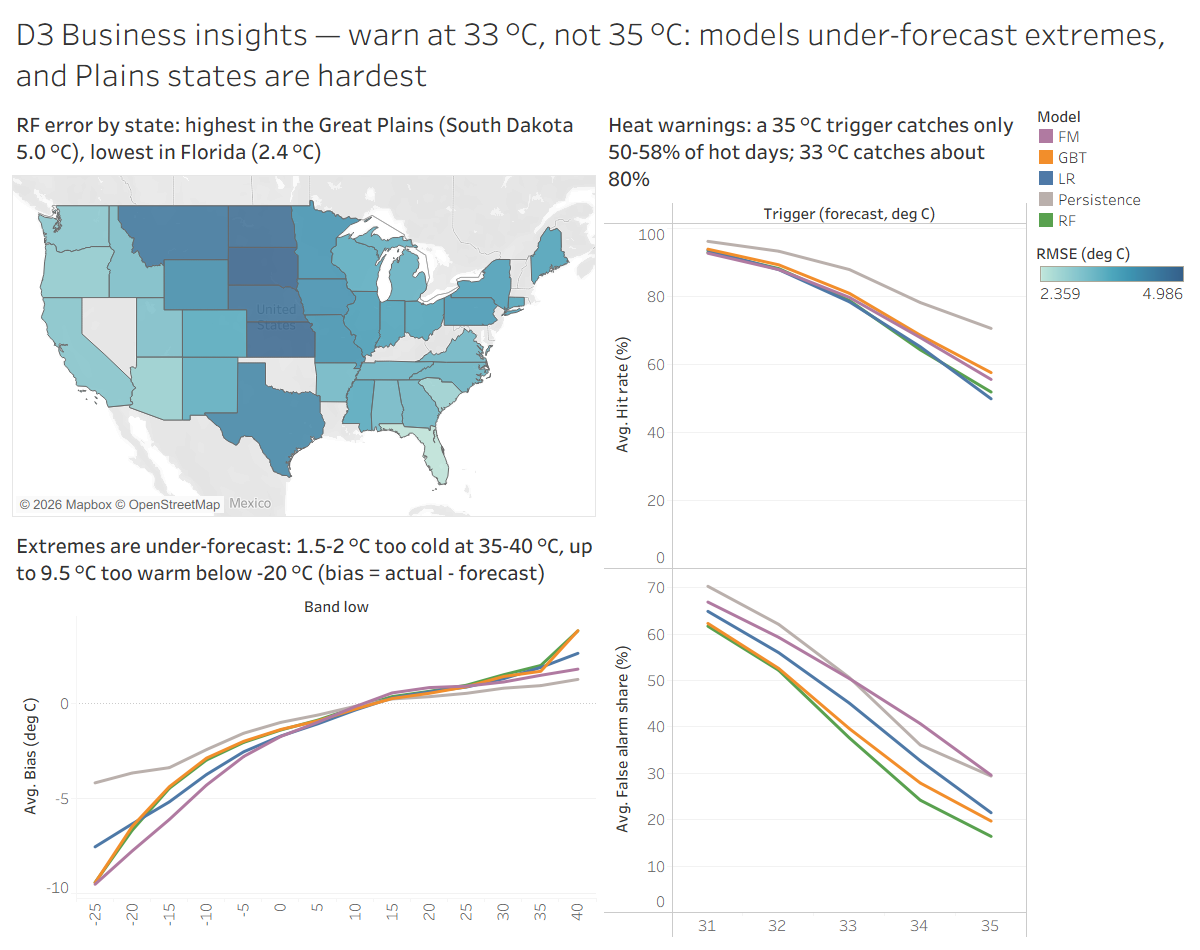

The dashboard page shown, as its layout file describes it:
{"tool":"tableau","page":{"name":"D3 Business insights","canvas":[1200,950],"ordinal":2},"visuals":[{"type":"title","box":[8,8,1184,92]},{"type":"worksheet","title":"D3 map","mark":"Multipolygon","box":[8,100,592,421]},{"type":"worksheet","title":"D3 warnings","mark":"Line","rows":["Hit rate (%)","False alarm share (%)"],"cols":["Trigger (forecast, deg C)"],"box":[600,100,432,842]},{"type":"legend","title":"D3 warnings","param":"[federated.0xheblu0boto6813stmhi141wx75].[none:Model:nk]","box":[1032,100,160,135]},{"type":"legend","title":"D3 map","param":"[federated.0u16uzo0aw131c1cssixc0r8tivd].[sum:RMSE (deg C):qk]","box":[1032,235,160,73]},{"type":"worksheet","title":"D3 bias","mark":"Line","rows":["Bias (deg C)"],"cols":["Band low"],"box":[8,521,592,421]}]}

Visuals, with their boxes in screenshot pixels (x1, y1, x2, y2), scaled from the page's 1200x950 canvas onto the 1200x950 screenshot:
title: [x1=8, y1=8, x2=1192, y2=100]
"D3 map" worksheet (Multipolygon marks): [x1=8, y1=100, x2=600, y2=521]
"D3 warnings" worksheet (Line marks): [x1=600, y1=100, x2=1032, y2=942]
"D3 warnings" legend: [x1=1032, y1=100, x2=1192, y2=235]
"D3 map" legend: [x1=1032, y1=235, x2=1192, y2=308]
"D3 bias" worksheet (Line marks): [x1=8, y1=521, x2=600, y2=942]
